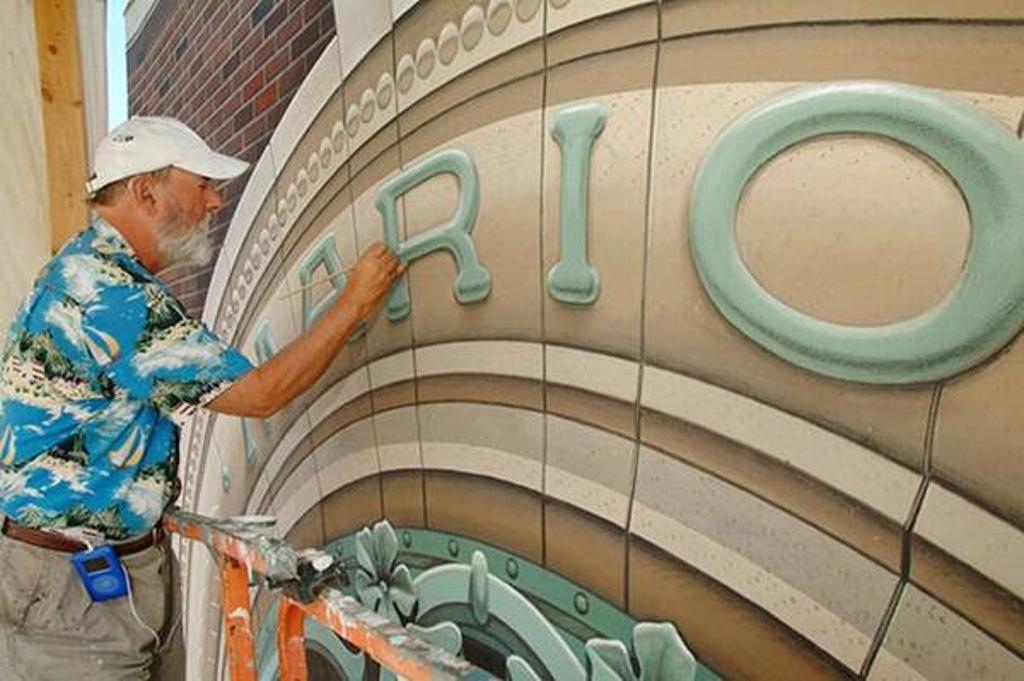face: (165, 151, 223, 263)
